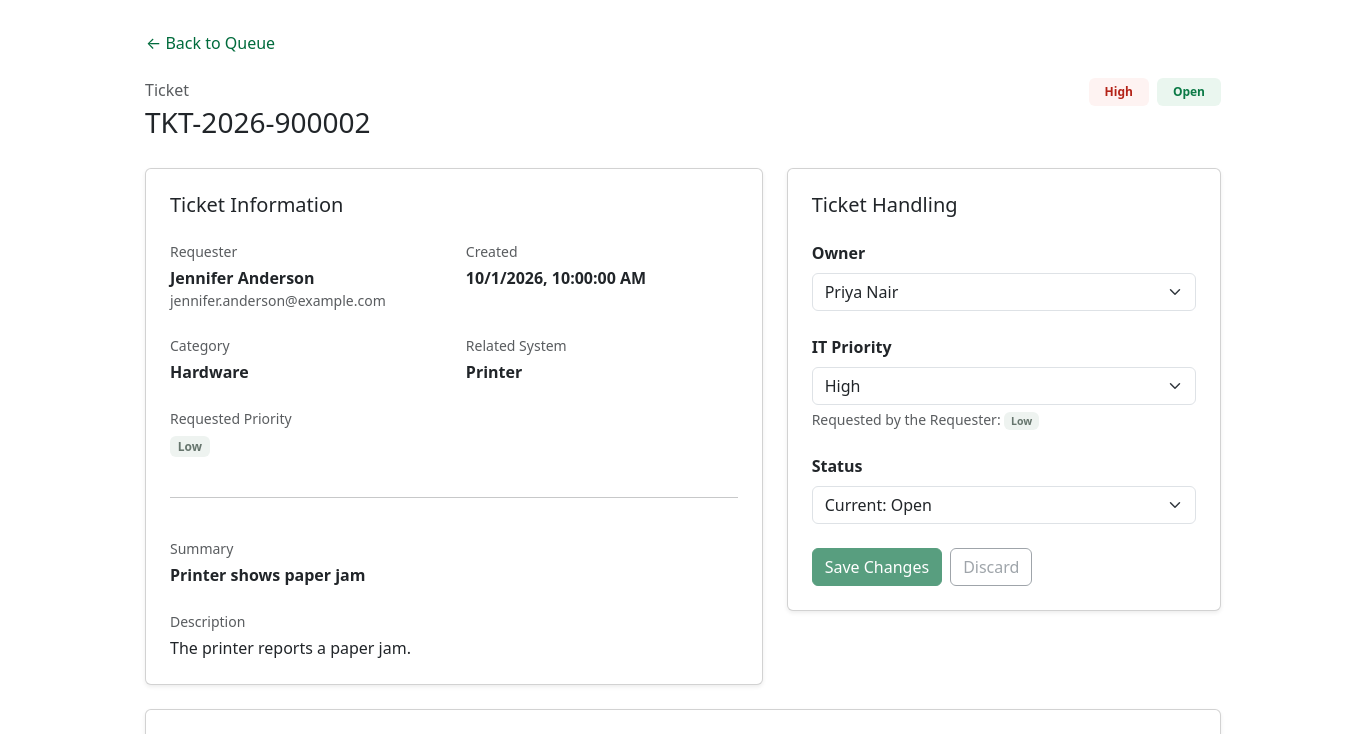
Test: Status control › UI-17 shows the gate message as an alert under the Status select and keeps the status
Select "Resolved" in the dropdown labelled "Status" at (1004, 505), box [812,486,1196,524]
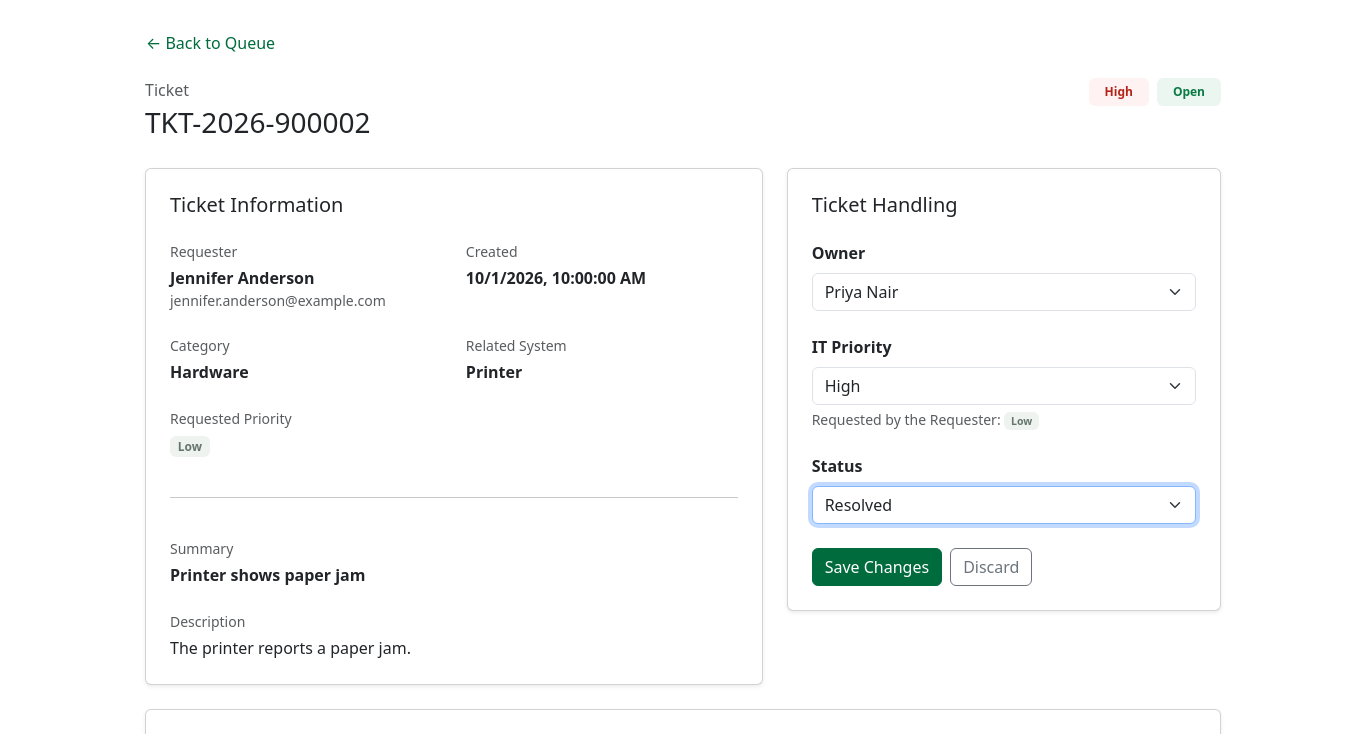
Click the button "Save Changes" at (877, 567), box [812,548,942,586]
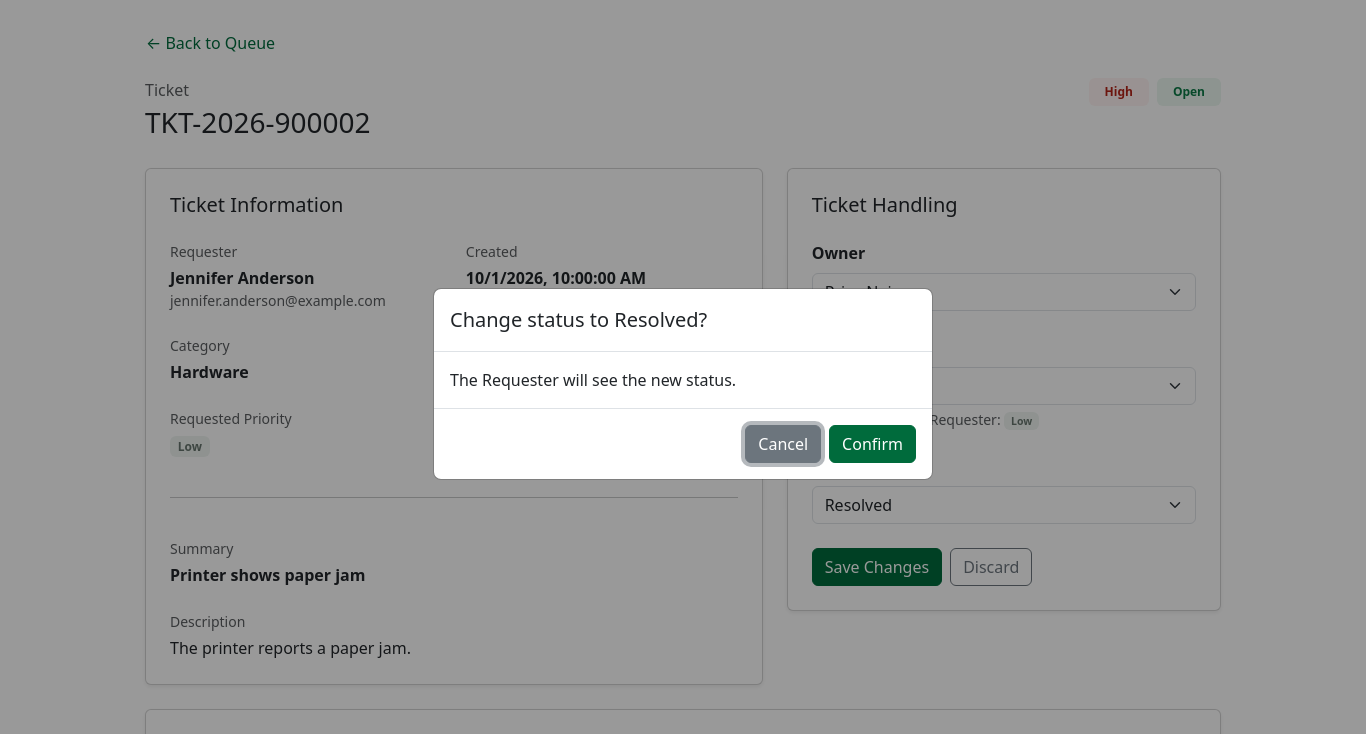
Click the button "Confirm" at (873, 444), box [829,425,916,463]
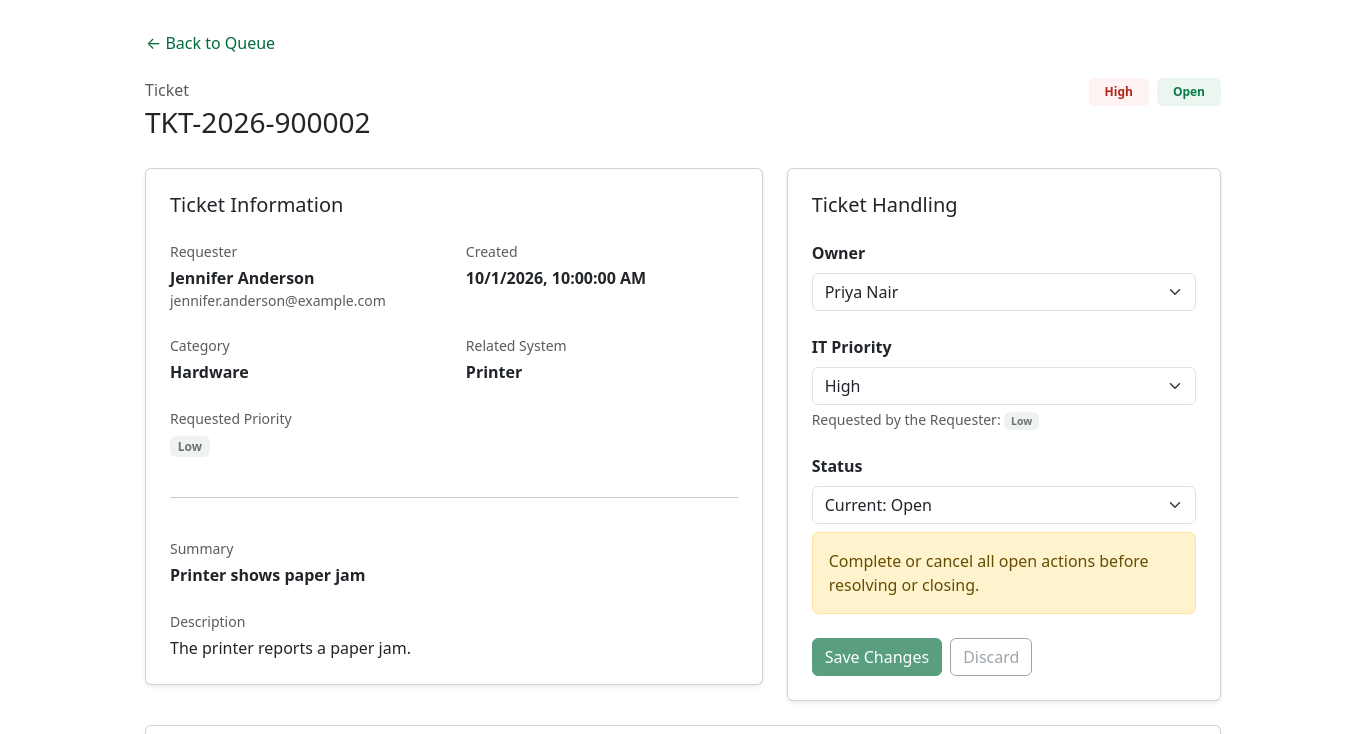
Check: the text "Open" is shown, box [1157,78,1221,106]
Check: the message reads "Complete or cancel all open actions before resolving or closing.", box [829,550,1149,596]
